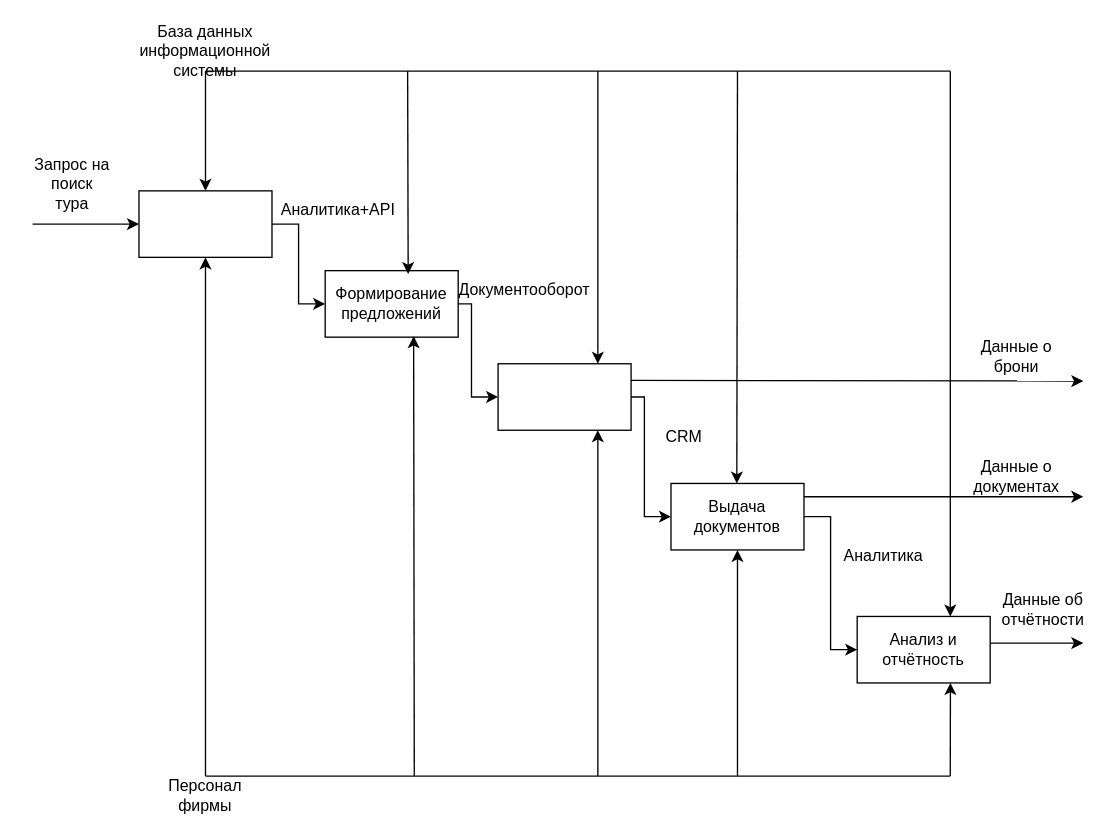
Image size: 1117x839. Some labels were removed from this diagram. Each missing label, with the centre of its shape:
"Бронирование услуг" goes at (x=564, y=396).
"Регистрация запросов" goes at (x=205, y=223).
